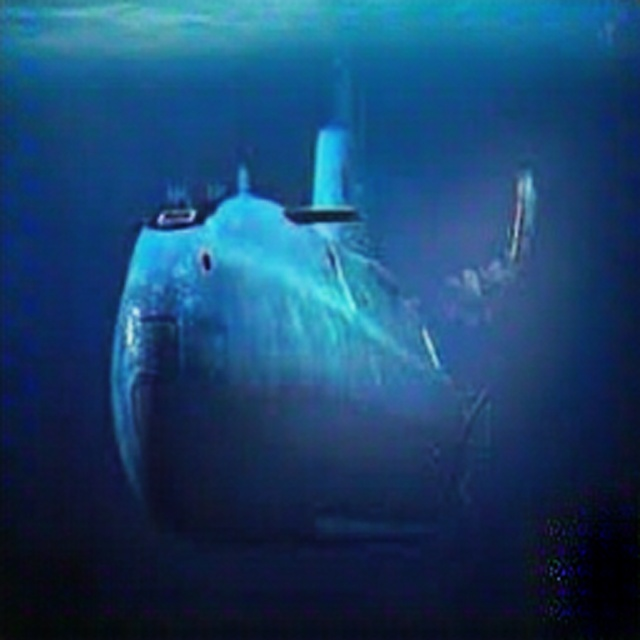submarine: (90, 105, 539, 558)
